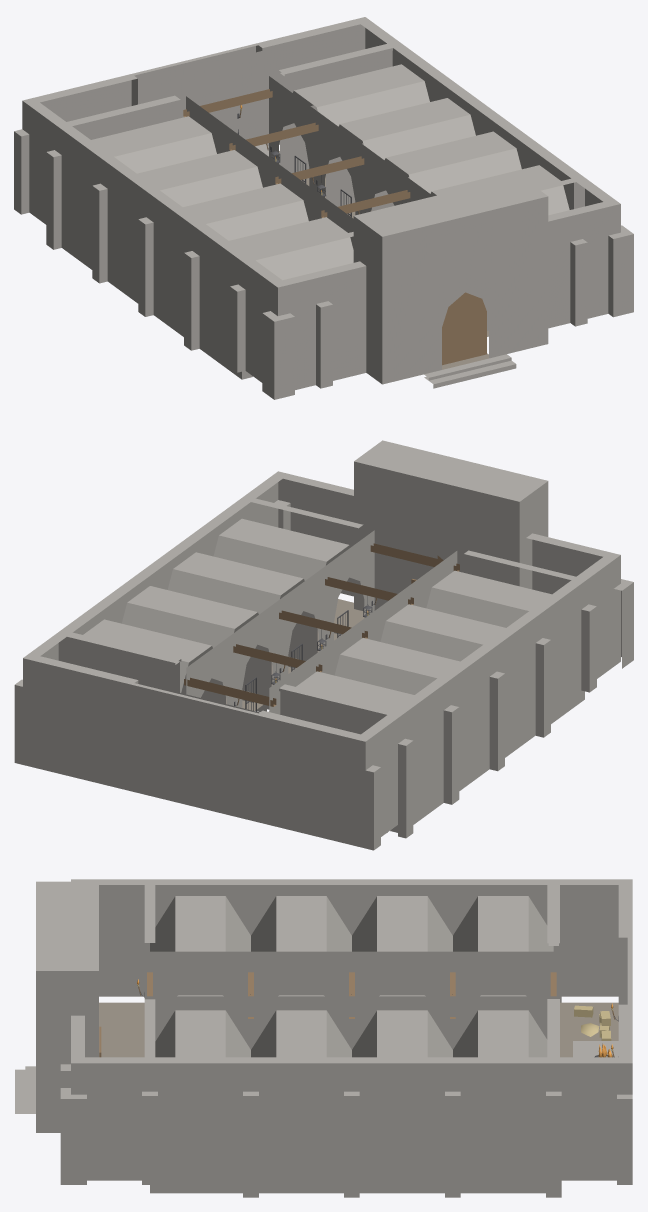
File: Foso_V2_LOW.dae
The picture shows the model from 3 angles, top to bottom: view 1: azimuth 30°, elevation 25°; view 2: azimuth 150°, elevation 25°; view 3: azimuth 270°, elevation 25°; orthographic projection. The views are drawn at different scales.
Parts seen in each view (by area): view 1: G_Torre_O_LOD1, G_Muro_O_LOD1, G_Torre_E_LOD1, G_Muro_E_LOD1, C04_Muros_LOD1, N_Muro_O_LOD1, G_Arco_LOD1, N_Muro_Fondo_LOD1, C01_Muros_LOD1, C03_Muros_LOD1, C02_Muros_LOD1, C06_Boveda_LOD1 (+26 smaller); view 2: N_Muro_O_LOD1, N_Muro_Fondo_LOD1, N_Muro_E_LOD1, C04_Muros_LOD1, G_Torre_O_LOD1, G_Torre_E_LOD1, C03_Muros_LOD1, C01_Muros_LOD1, C02_Muros_LOD1, G_Arco_LOD1, C08_Muros_LOD1, C05_Boveda_LOD1 (+28 smaller); view 3: C08_Muros_LOD1, C07_Muros_LOD1, C05_Muros_LOD1, C06_Muros_LOD1, N_Muro_E_LOD1, V_Muro_E_LOD1, G_Torre_E_LOD1, N_Muro_O_LOD1, V_Muro_O_LOD1, C02_Boveda_LOD1, C03_Boveda_LOD1, C01_Boveda_LOD1 (+25 smaller).
Part boxes in pixels (x1,y1,x2,y2): G_Torre_O_LOD1: (353, 202, 437, 384); G_Muro_O_LOD1: (262, 261, 366, 399); G_Torre_E_LOD1: (464, 175, 548, 357); G_Muro_E_LOD1: (548, 199, 633, 328); C04_Muros_LOD1: (46, 95, 180, 269); N_Muro_O_LOD1: (14, 74, 137, 224); G_Arco_LOD1: (409, 189, 492, 370); N_Muro_Fondo_LOD1: (132, 43, 262, 139); C01_Muros_LOD1: (184, 225, 252, 379); C03_Muros_LOD1: (92, 158, 160, 303); C02_Muros_LOD1: (138, 191, 206, 336); C06_Boveda_LOD1: (384, 131, 521, 193); N_Muro_O_LOD1: (256, 710, 401, 850); N_Muro_Fondo_LOD1: (132, 683, 259, 821); N_Muro_E_LOD1: (14, 632, 138, 791); C04_Muros_LOD1: (279, 679, 447, 838); G_Torre_O_LOD1: (464, 467, 548, 589); G_Torre_E_LOD1: (354, 440, 437, 610); C03_Muros_LOD1: (436, 645, 493, 804); C01_Muros_LOD1: (528, 578, 584, 737); C02_Muros_LOD1: (482, 612, 538, 771); G_Arco_LOD1: (409, 454, 492, 585); C08_Muros_LOD1: (58, 598, 181, 692); C05_Boveda_LOD1: (213, 518, 350, 580); C08_Muros_LOD1: (453, 999, 561, 1197); C07_Muros_LOD1: (352, 1057, 460, 1197); C05_Muros_LOD1: (150, 1057, 258, 1197); C06_Muros_LOD1: (251, 1057, 359, 1197); N_Muro_E_LOD1: (553, 1004, 632, 1184); V_Muro_E_LOD1: (85, 999, 157, 1184); G_Torre_E_LOD1: (36, 941, 98, 1132); N_Muro_O_LOD1: (553, 879, 632, 1004); V_Muro_O_LOD1: (85, 879, 155, 996); C02_Boveda_LOD1: (251, 896, 351, 951); C03_Boveda_LOD1: (352, 896, 452, 951); C01_Boveda_LOD1: (150, 896, 250, 951).
Size of the model in its own units: 26 by 35.32 by 11.1.
